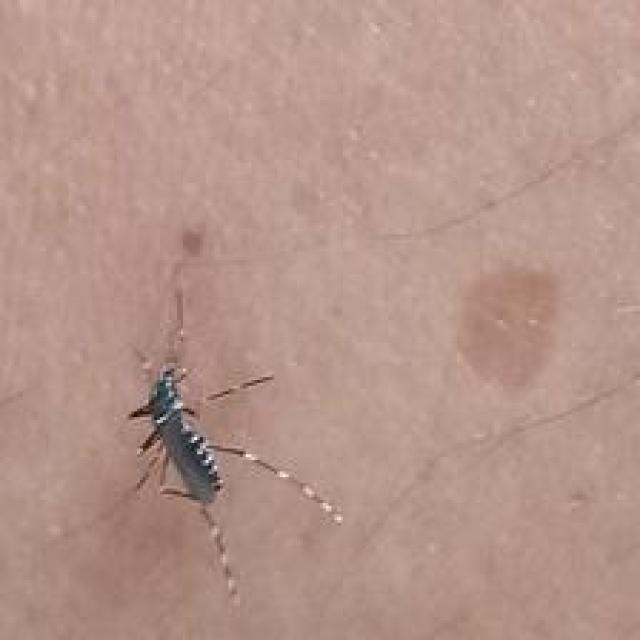Aedes albopictus: (119, 282, 344, 602)
